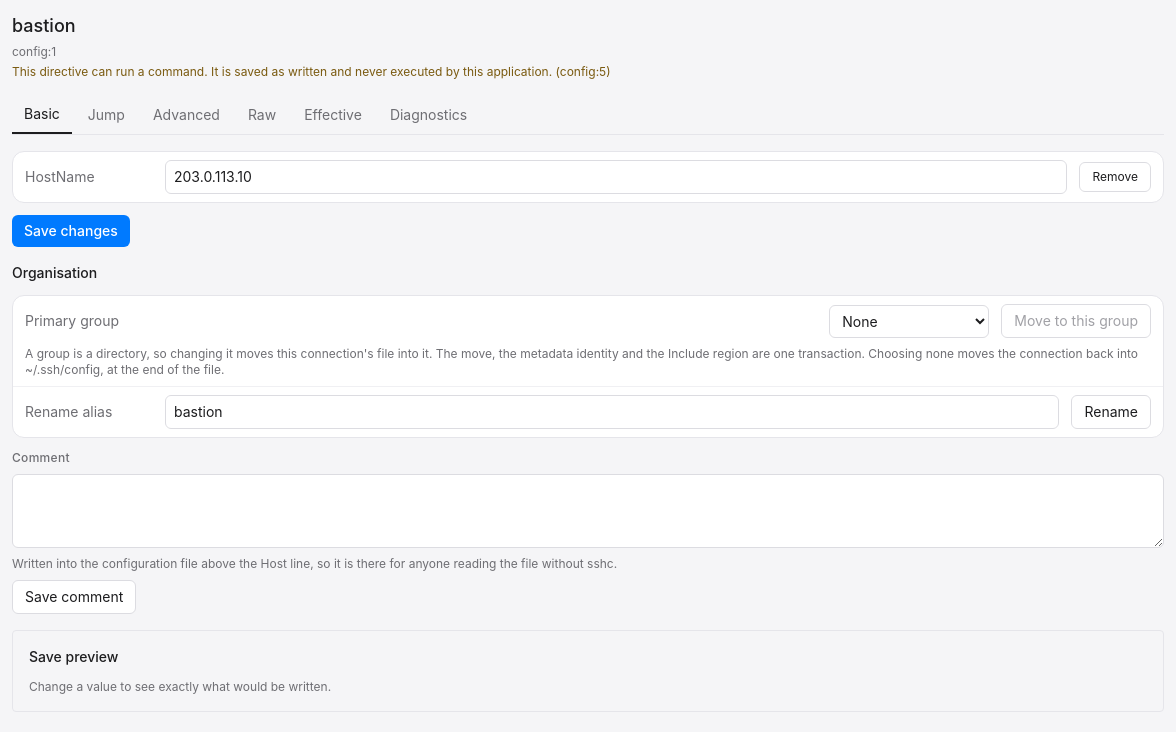
Test case: HostDetailPanel › keeps an unbalanced quote in the editor and refuses to submit it
This screenshot has width=1176, height=732.
Replace the text in the field labelled "HostName" with "\"unbalanced" at (616,177), box [165, 160, 1068, 194]
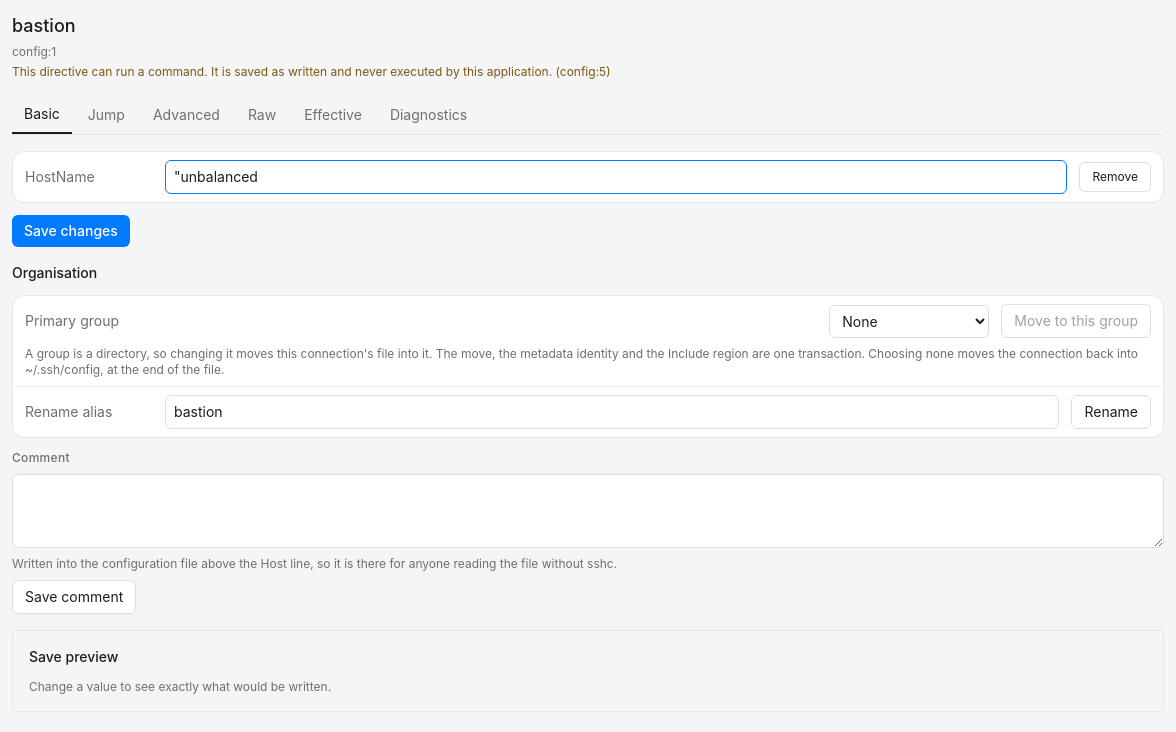
Click the button "Save changes" at (71,231), box [12, 215, 130, 247]
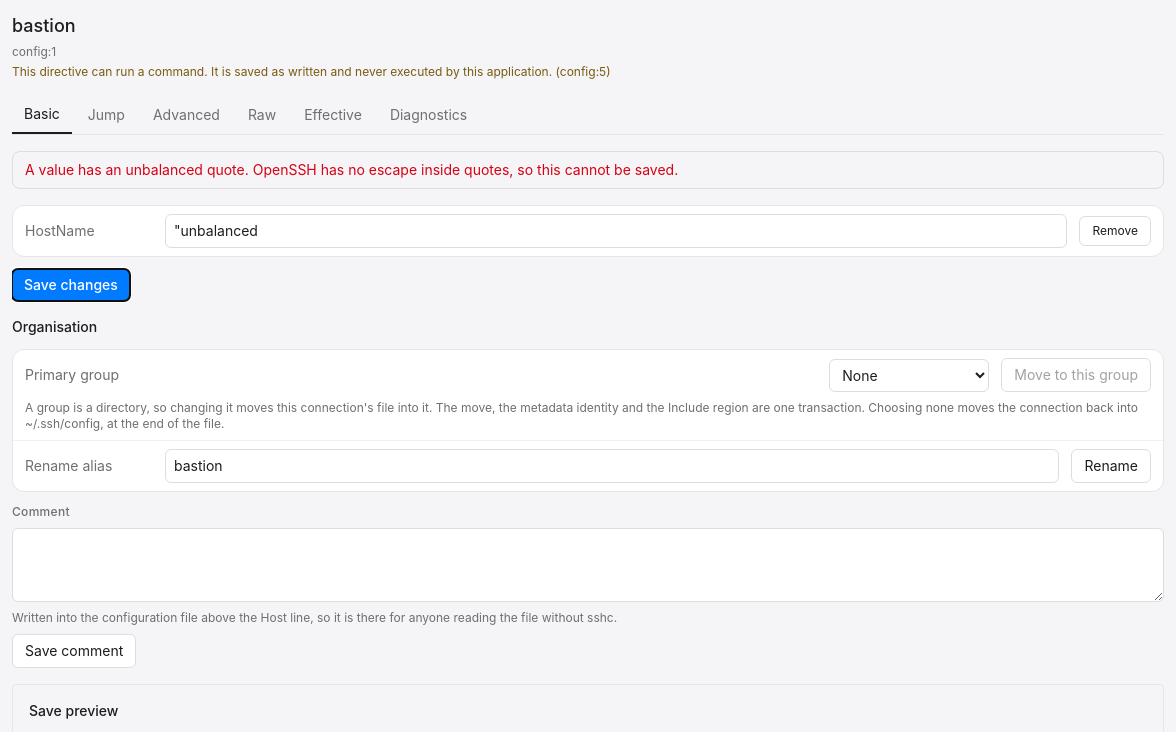
Check: the message shows "quote", box [25, 161, 678, 178]
